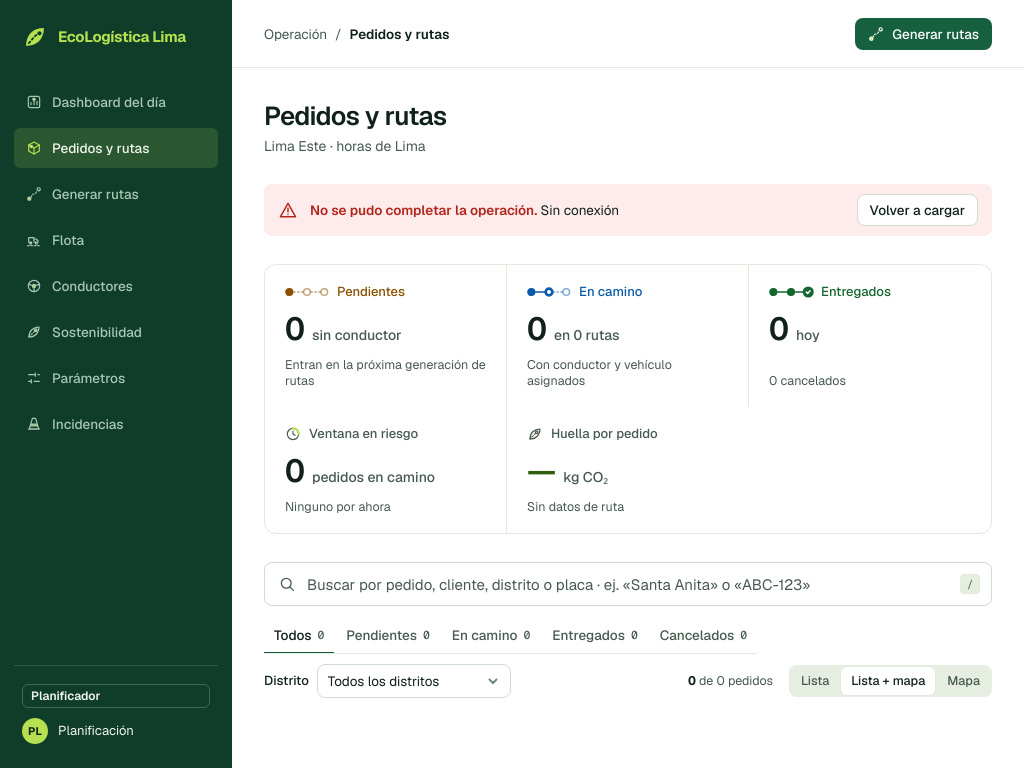
Test: recupera una carga fallida del listado: {}
The width and height of the screenshot is (1024, 768).
Expected: the message shows "Sin conexión", 540,201 -> 619,219
Click the button "Volver a cargar" at x=917, y=210, box 856,194 -> 978,226
(page scrolled)
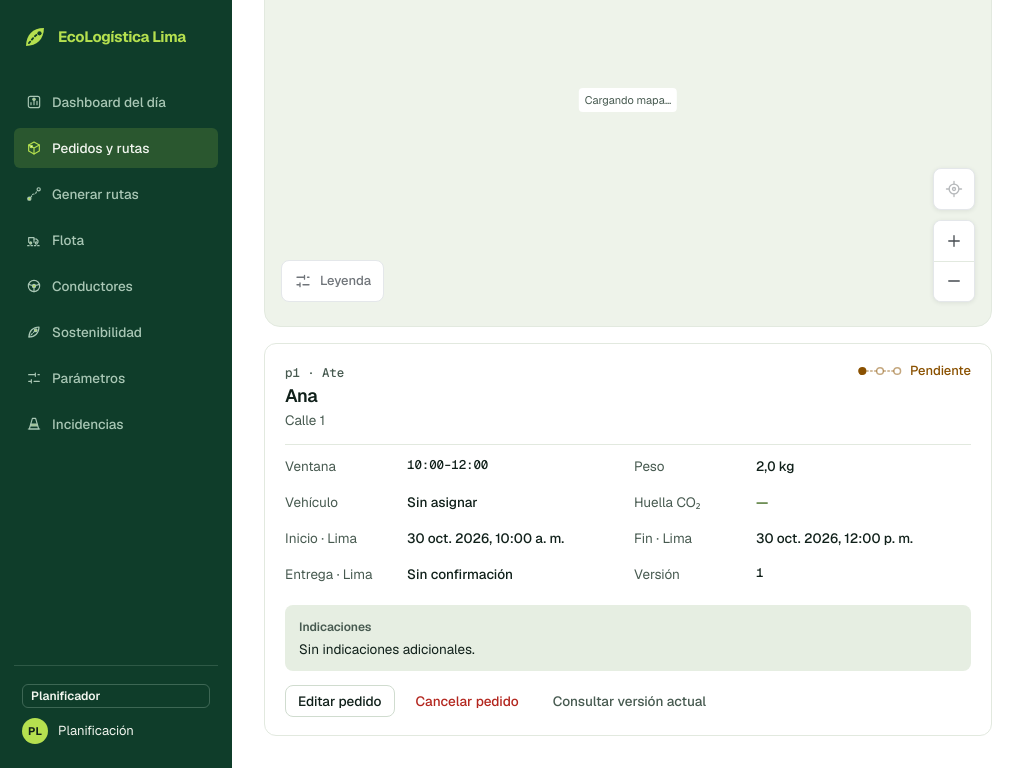
Result: the element named "Detalle del pedido seleccionado" shows "Ana" at 285,384 -> 317,407
